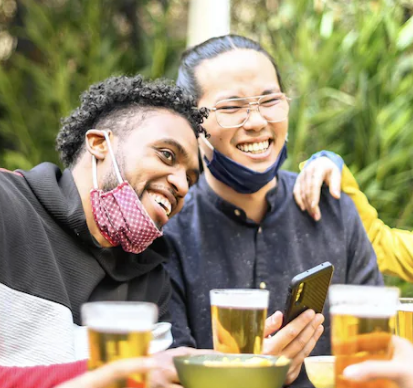with_incorrect_mask: (90, 119, 200, 260), (193, 48, 297, 194)
